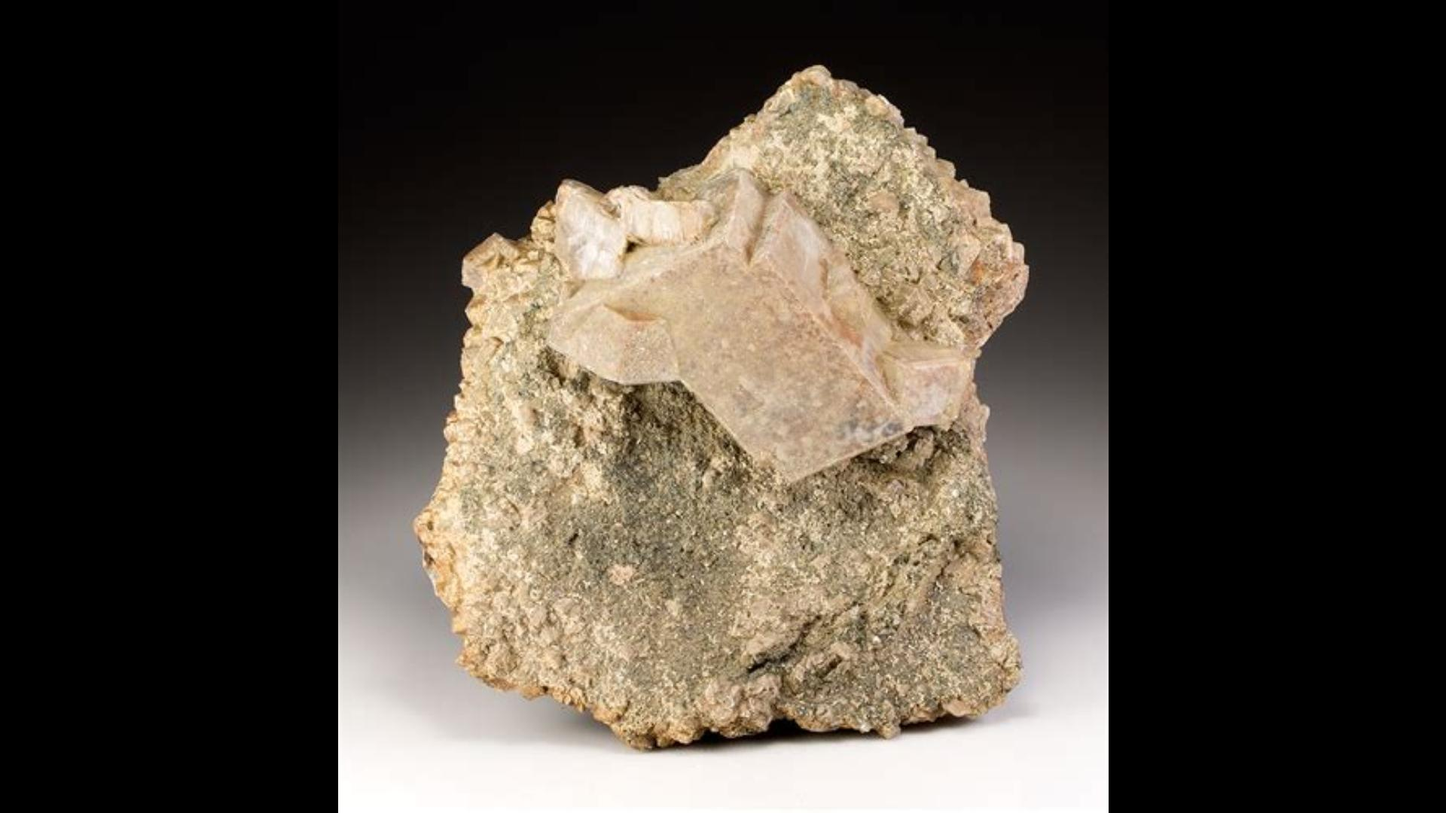rock: (418, 65, 1027, 749)
